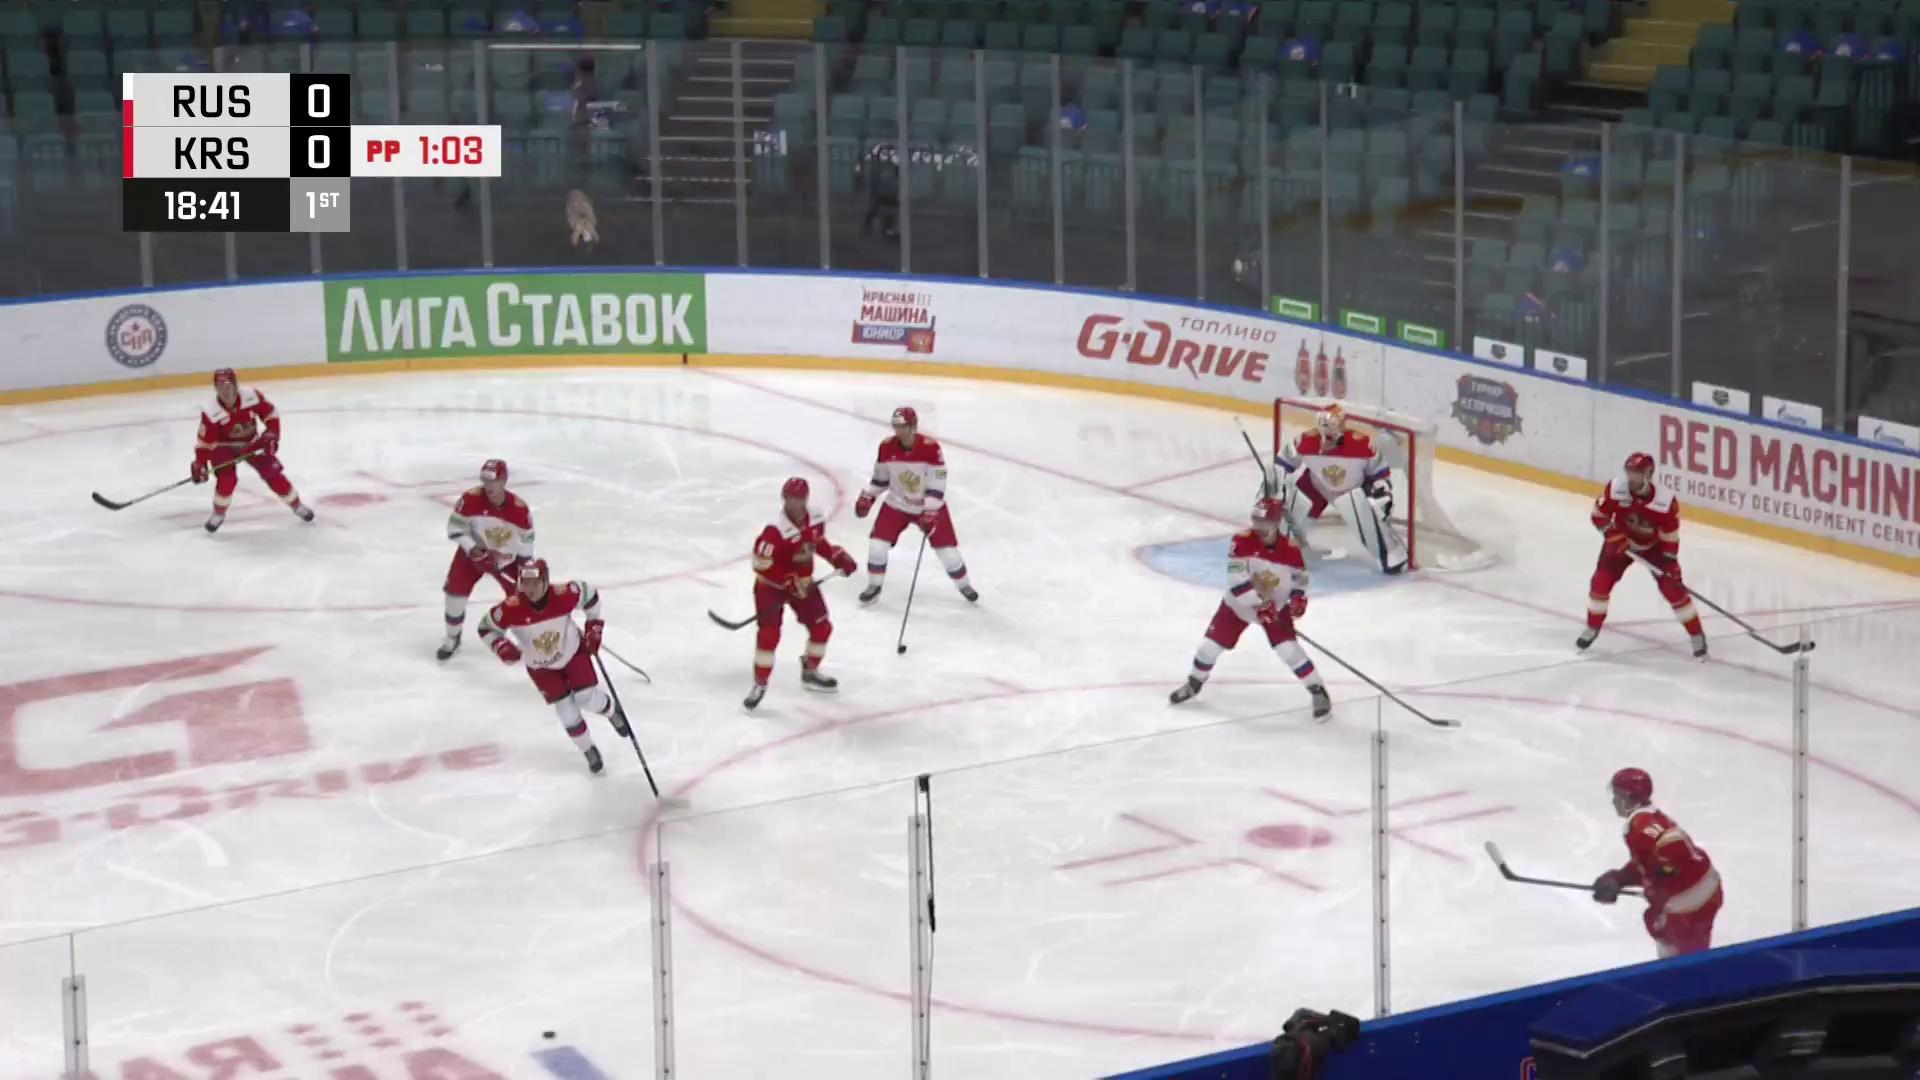ball: (541, 1030, 560, 1040)
